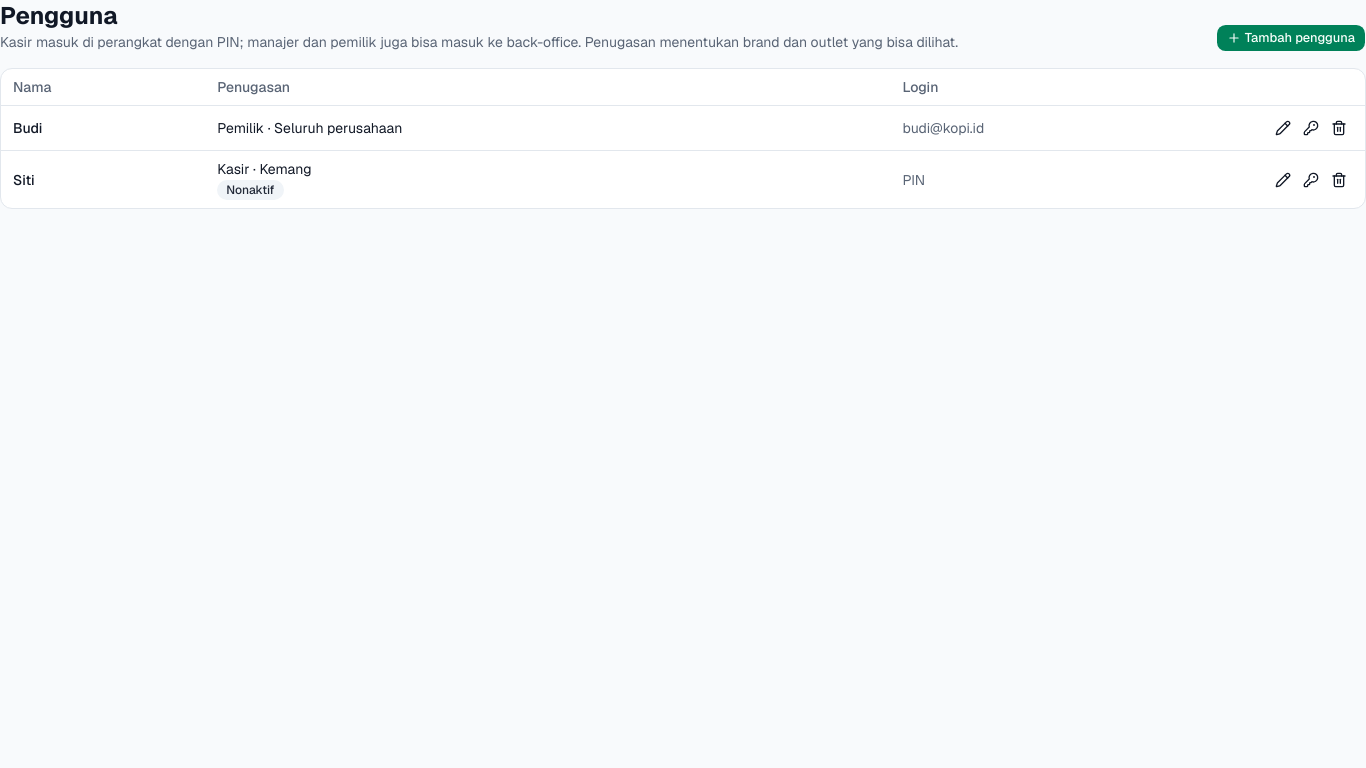
Test: UsersScreen › explains why you cannot delete yourself
Click the button named "Hapus Budi".
click(1339, 128)  # box [1325,114,1353,142]
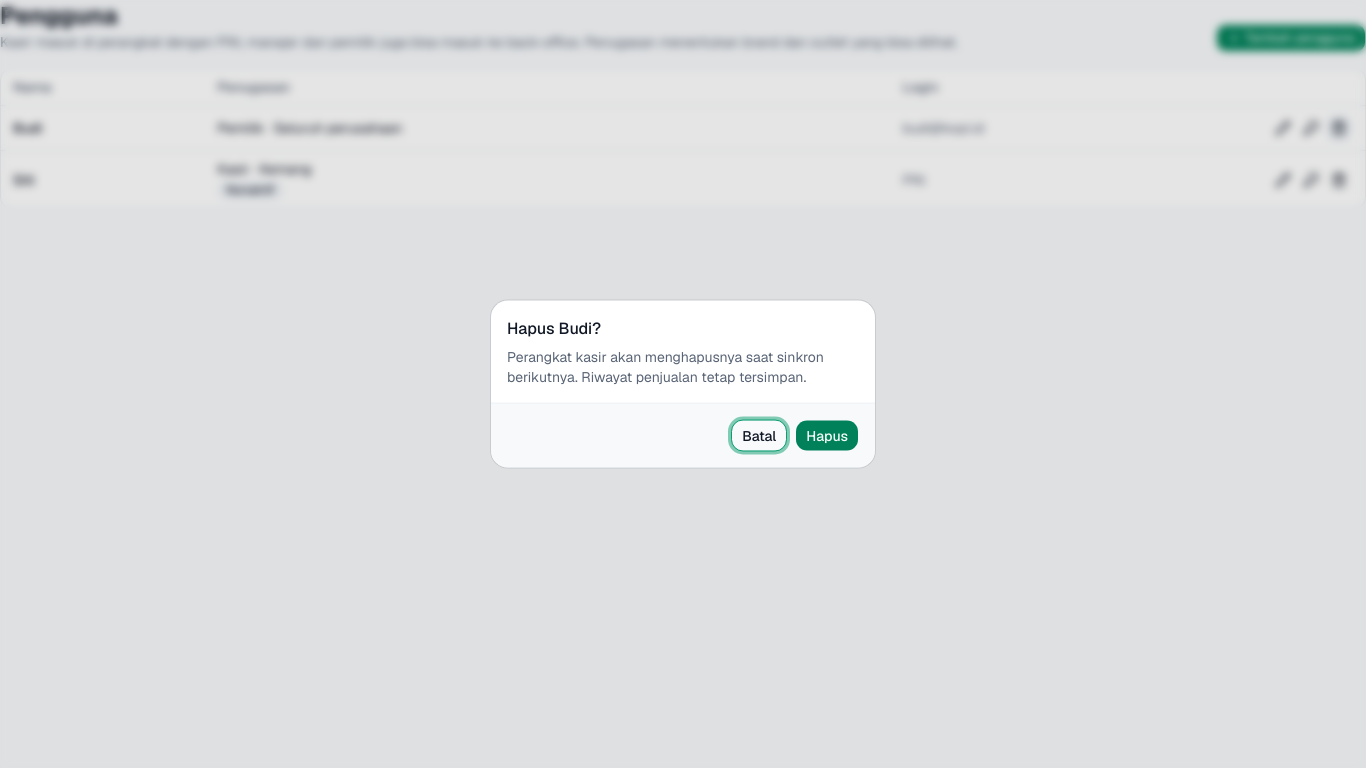
Click the button "Hapus".
click(827, 436)  # box [795,420,859,452]
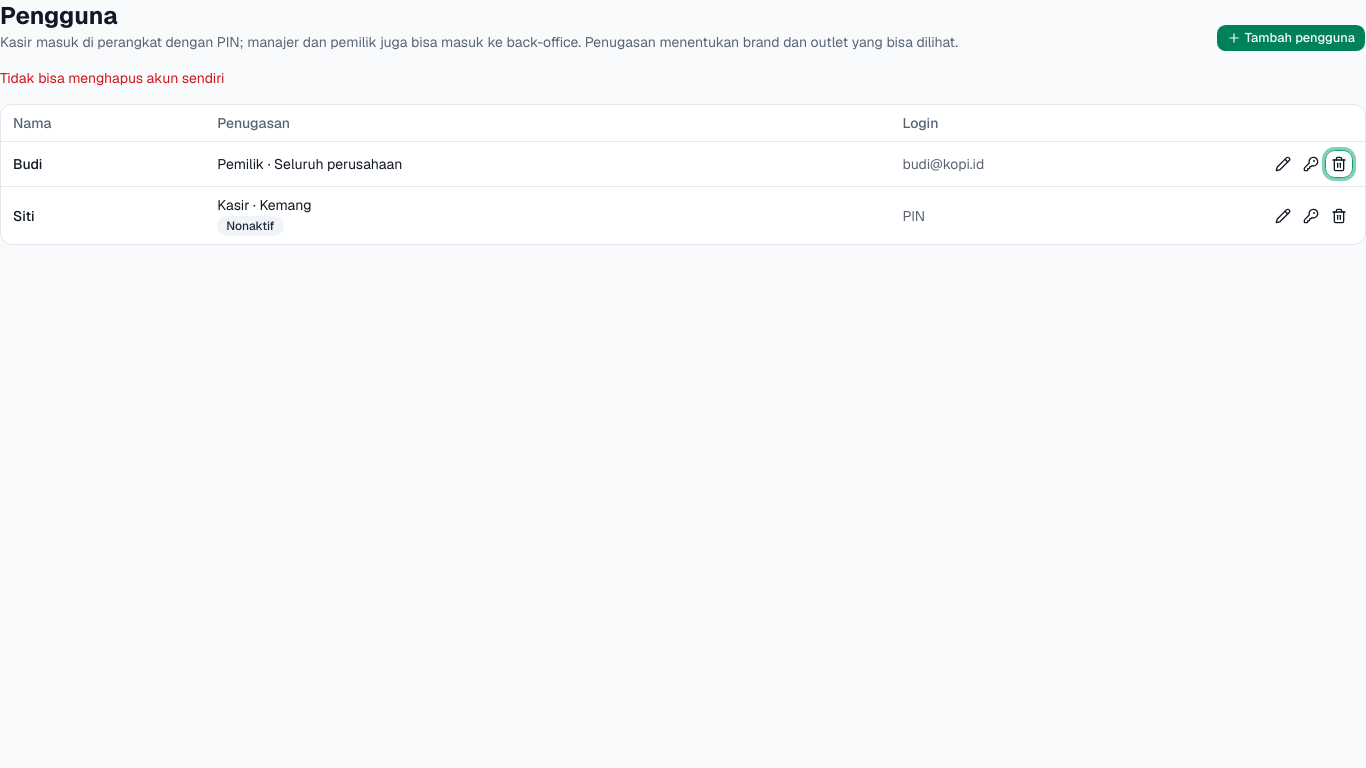
Expected: the text "Tidak bisa menghapus akun sendiri" is shown, [0,69,224,87]
